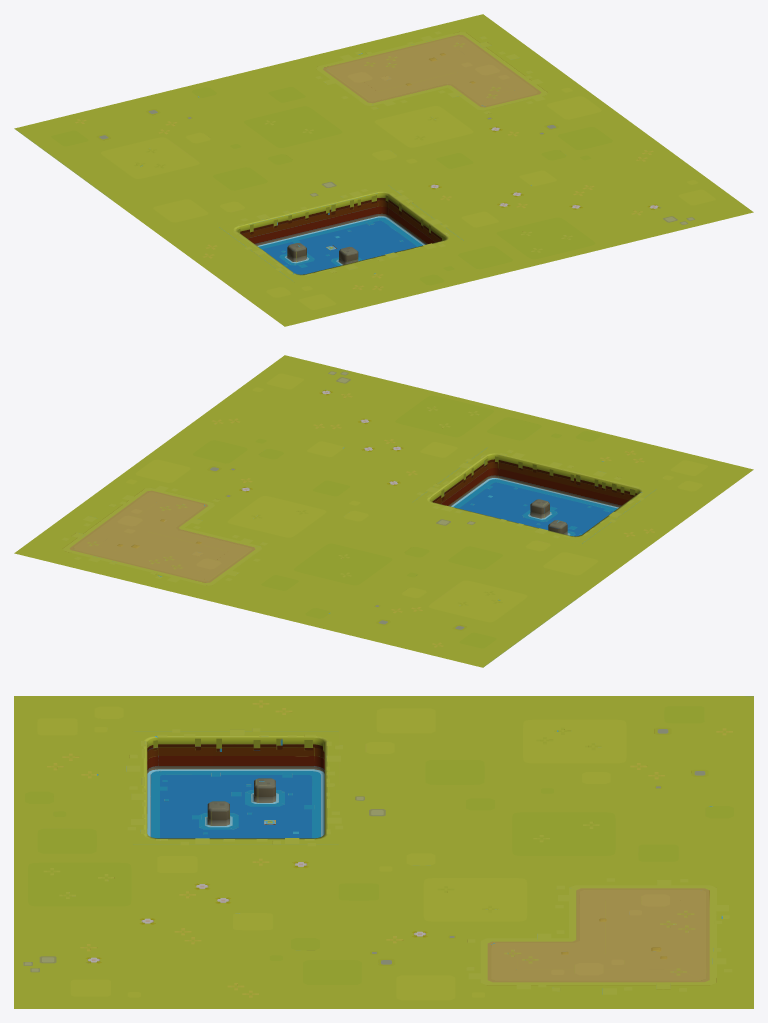
The model's file is C_grass2_02.fbx.
3 views of the same model, one above another, from view 1: azimuth 30°, elevation 25°; view 2: azimuth 150°, elevation 25°; view 3: azimuth 270°, elevation 25° (orthographic). The views are drawn at different scales.
Visible parts, largest first — view 1: model; view 2: model; view 3: model.
Boxes of the visible parts, box(x1,y1,x2,y2) form: model: box(14, 14, 753, 326); model: box(14, 355, 753, 667); model: box(14, 696, 753, 1008).
Size of the model in its own units: 50 by 3.63 by 50.
